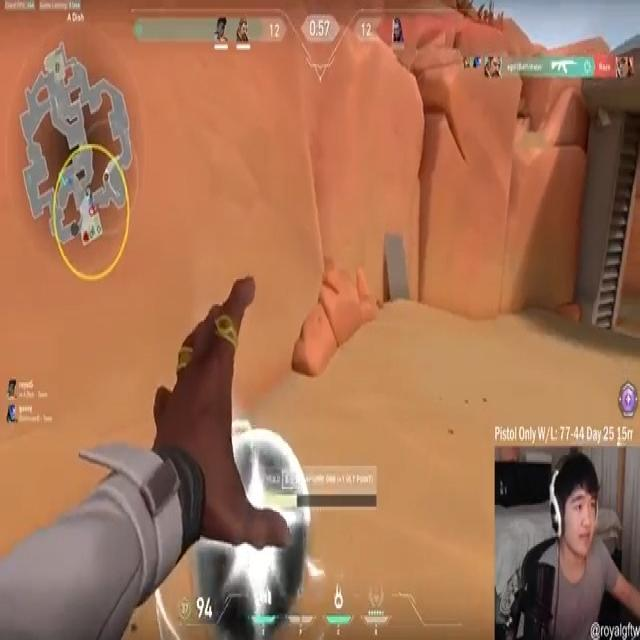orb: (200, 439, 306, 627)
